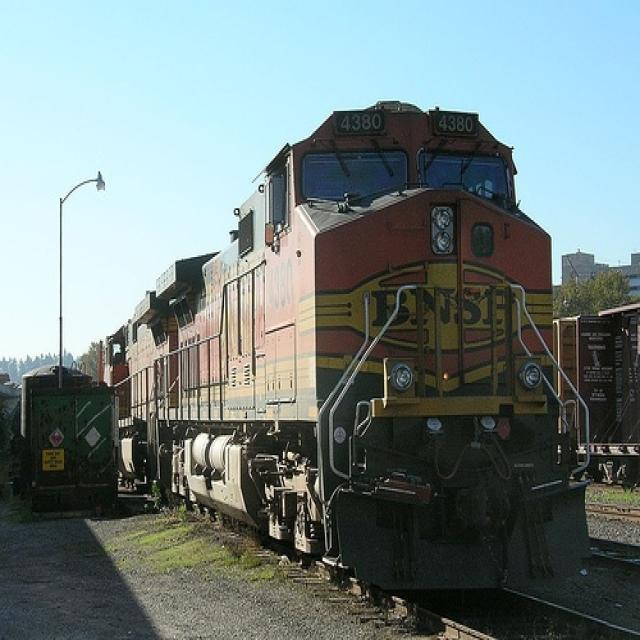train: (94, 94, 596, 620)
